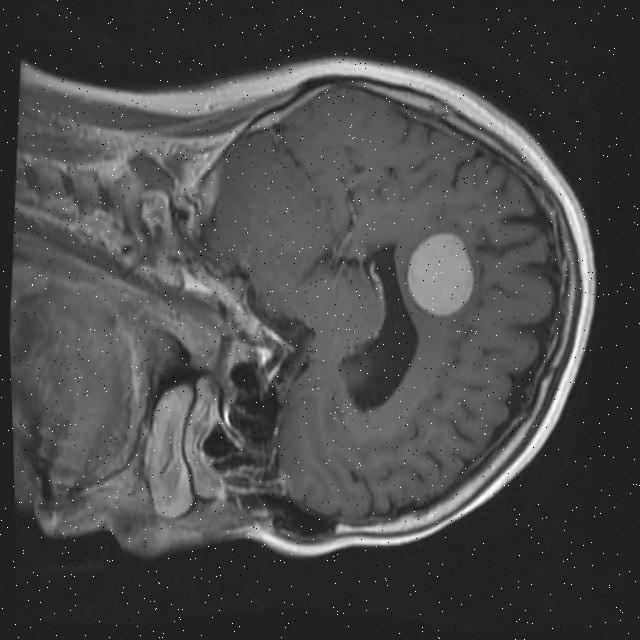Meningioma: (402, 226, 479, 321)
